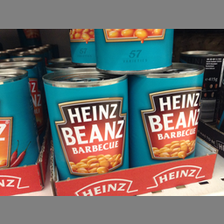beans: (39, 72, 130, 177), (133, 64, 203, 163)
